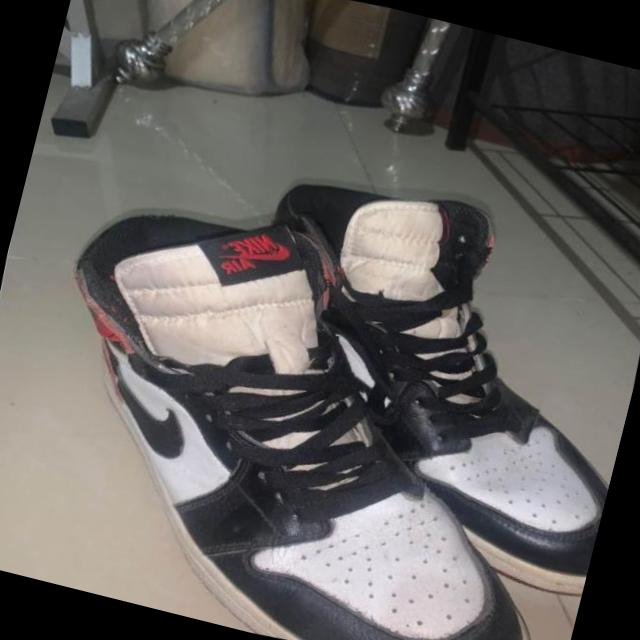nike_fake_jordan: (13, 162, 628, 640), (135, 133, 640, 625)
